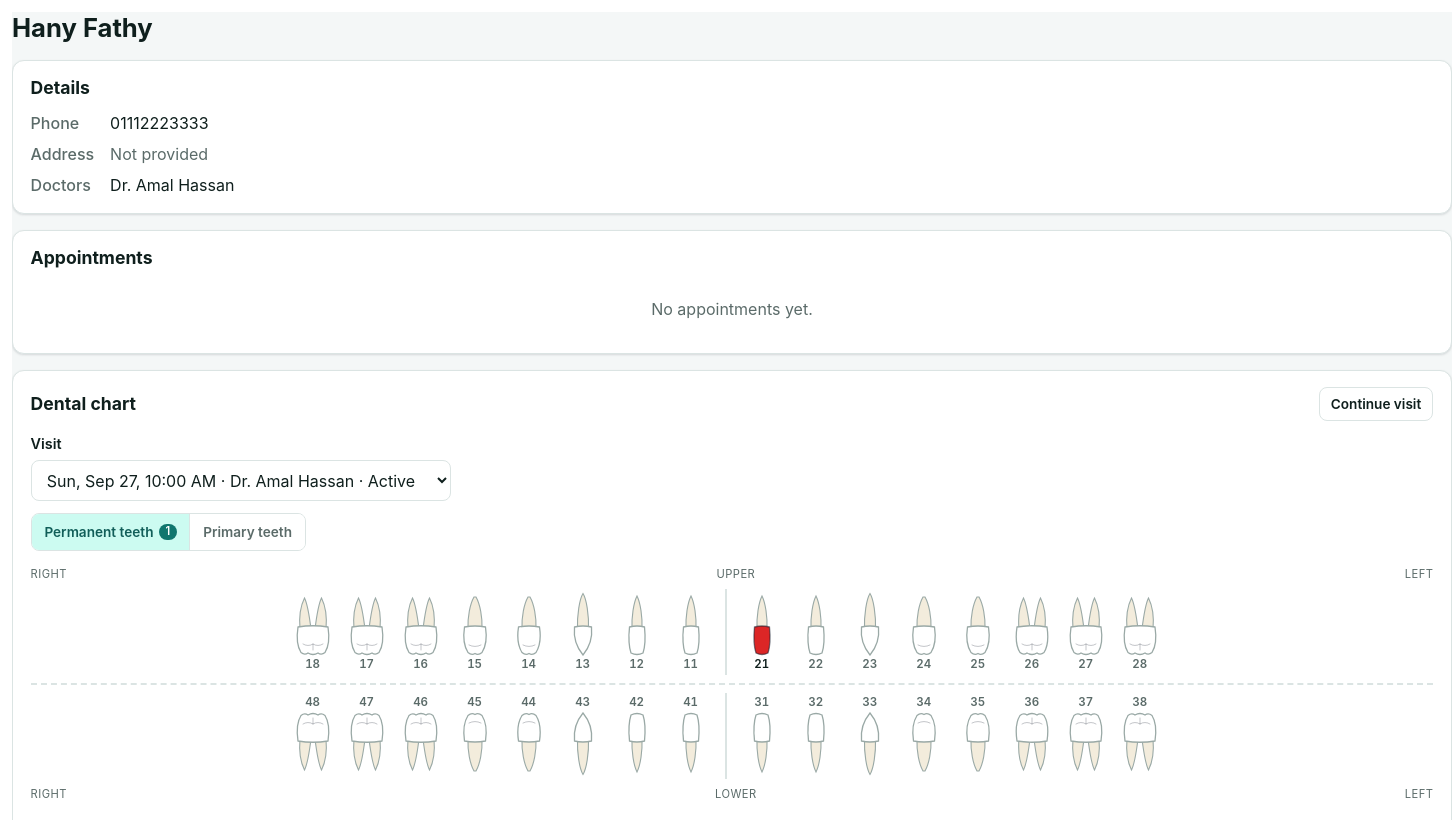
Test: patient dental chart (CHART-007) › shows the newest charted visit and switches between visits
Expected: the picture named "Tooth 21: Caries" is shown, [742,593,782,672]
Select "Sun, Sep 20, 10:00 AM · Dr. Amal Hassan · Completed" in the dropdown labelled "Visit": (241, 480) [31,460,451,501]
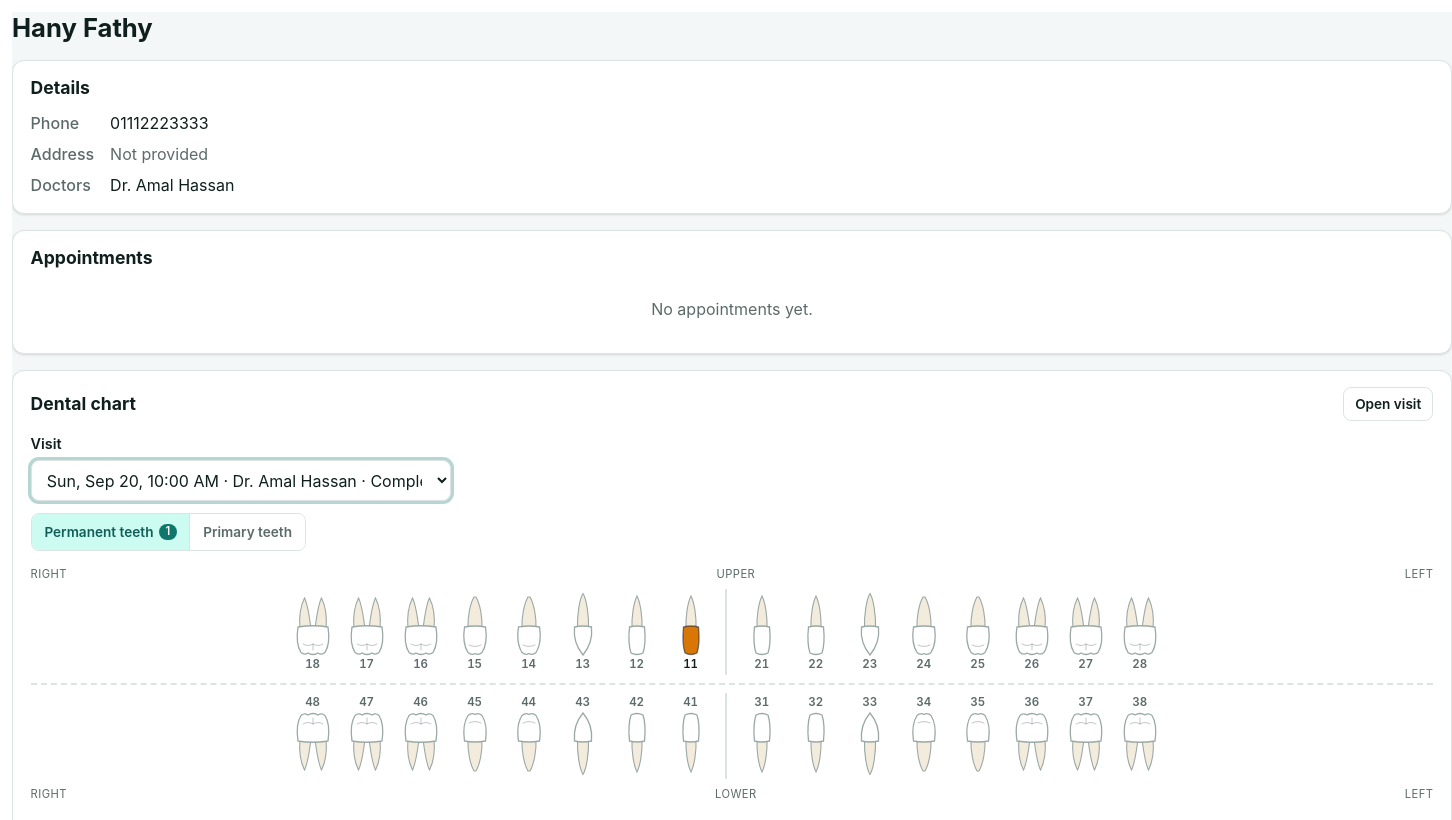
Expected: the picture named "Tooth 11: Crown" is shown, [671,593,711,672]
Expected: the picture named "Tooth 21: no actions" is shown, [742,593,782,672]
